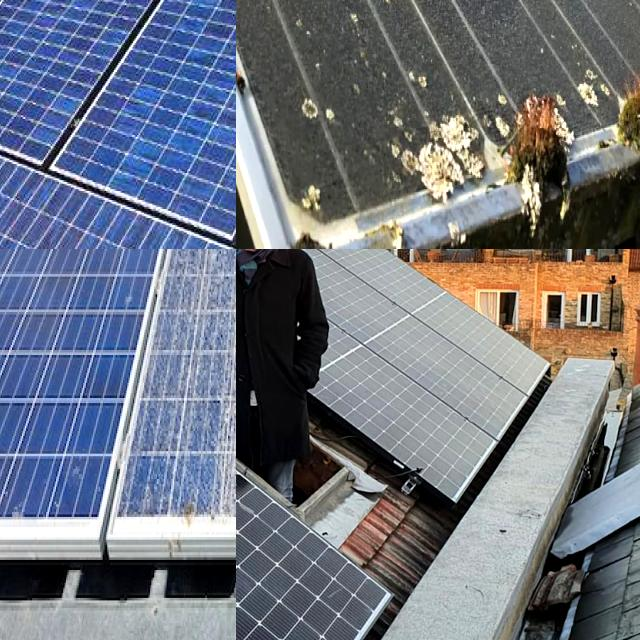crack: (94, 0, 236, 233), (236, 489, 336, 638), (0, 183, 180, 249), (236, 429, 316, 546), (355, 368, 458, 442), (13, 0, 93, 91), (0, 95, 47, 249), (397, 337, 489, 407), (236, 574, 316, 640), (0, 0, 31, 44)
dust: (276, 0, 426, 187), (425, 0, 602, 109), (351, 0, 478, 61), (236, 0, 313, 76), (494, 0, 559, 72)
